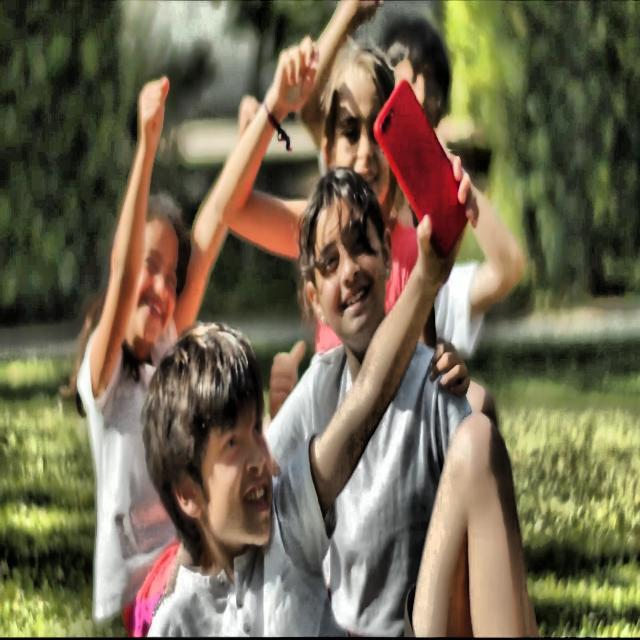Phone: (372, 77, 473, 268)
